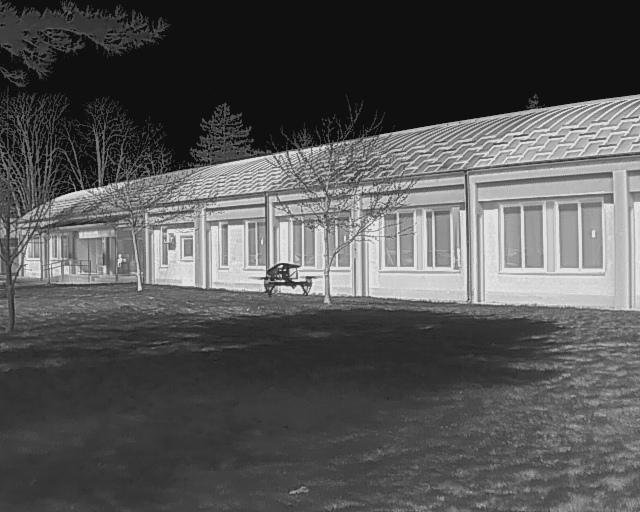drone: (244, 255, 333, 307)
